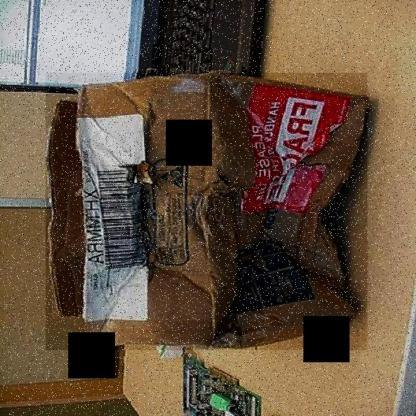-: (46, 73, 368, 350)
